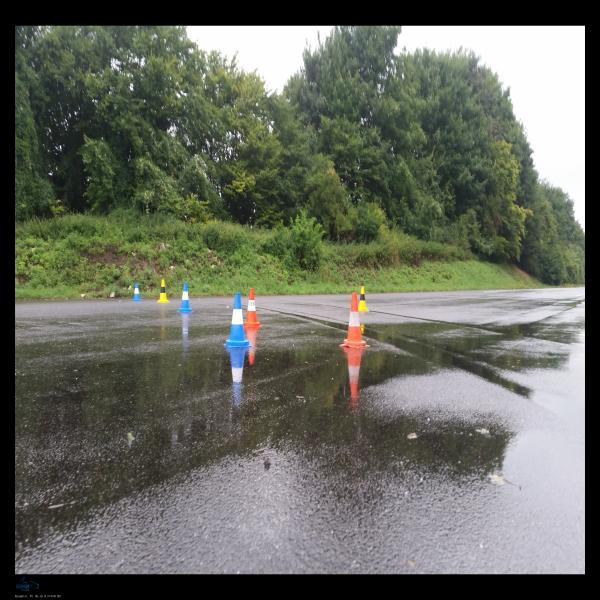blue_cone: (224, 293, 251, 348), (177, 283, 194, 312), (132, 283, 141, 302)
orange_cone: (340, 292, 370, 348), (243, 288, 262, 328)
yellow_cone: (157, 279, 170, 303), (358, 286, 369, 312)
